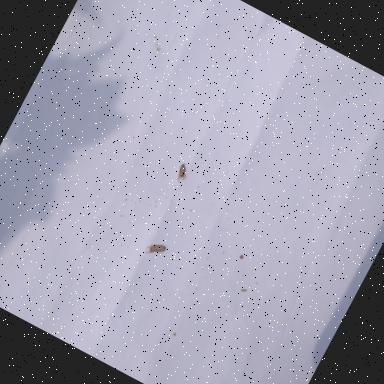pbw: (143, 238, 166, 260), (172, 161, 192, 183)
